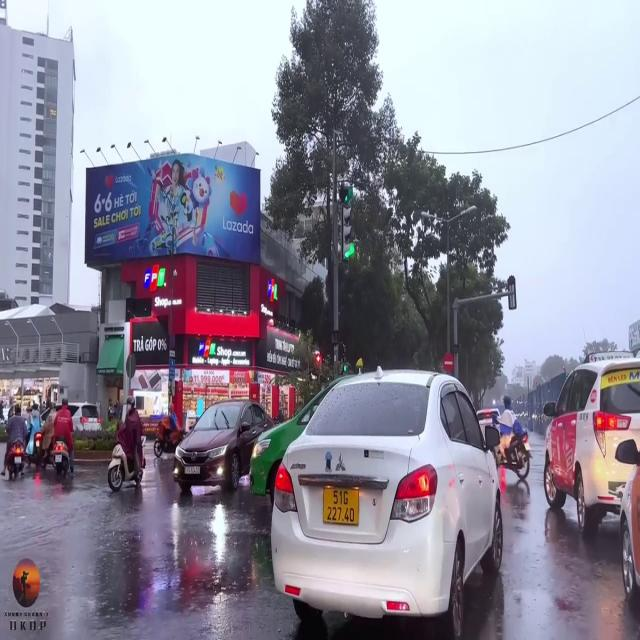bien_vang: (322, 479, 360, 532)
